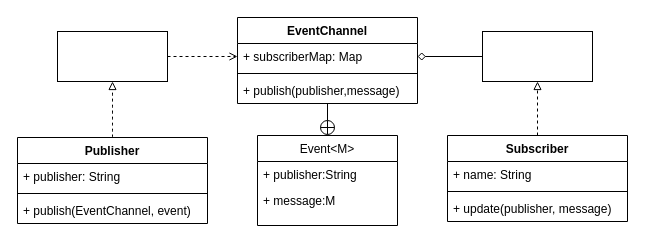
This 645x246 diagram has some shape labels left out. Each missing label, with the centre of its shape:
"«interface» IPublisher" goes at (112,56).
"«interface» ISubscriber" goes at (537,56).
